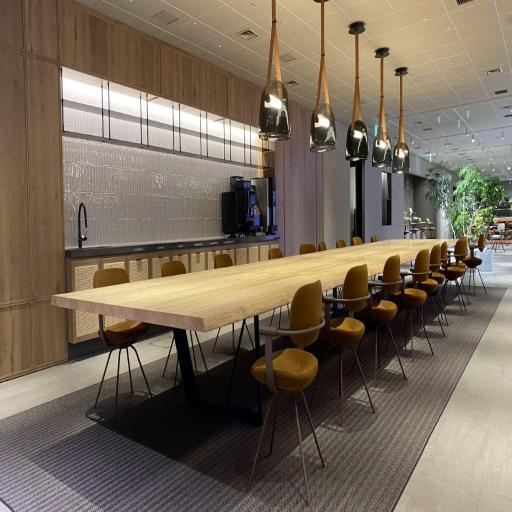table: (46, 232, 452, 430)
